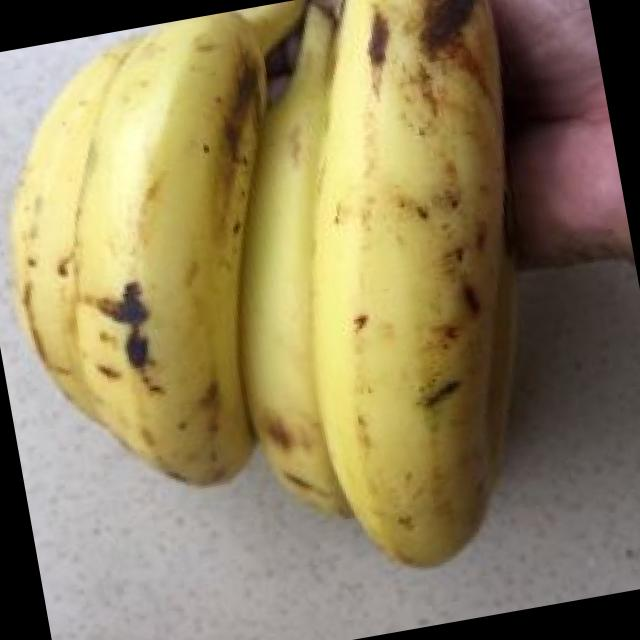banana: (68, 116, 566, 526)
